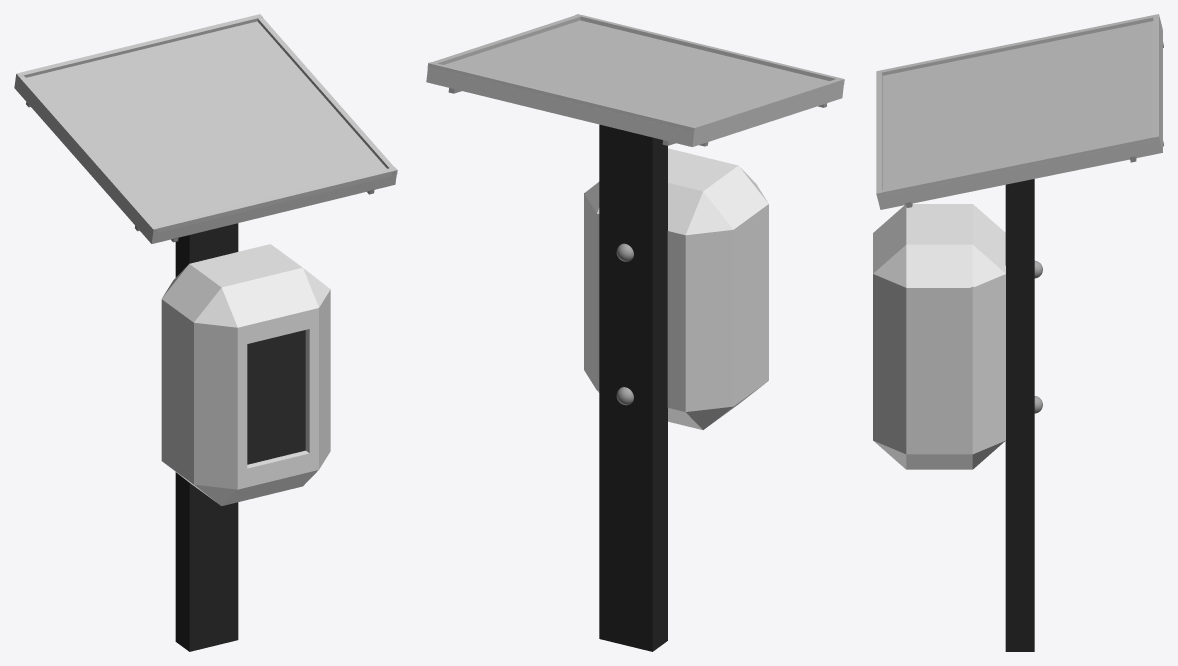
The model's file is Sensor-Solo.fbx.
3 views of the same model, side by side, from view 1: azimuth 30°, elevation 25°; view 2: azimuth 150°, elevation 25°; view 3: azimuth 270°, elevation 25° (orthographic). The views are drawn at different scales.
Parts seen in each view (by area): view 1: Solar_Panel, pCube2, pCube1; view 2: pCube1, Solar_Panel, pCube2; view 3: Solar_Panel, pCube2, pCube1.
Part boxes in pixels (<box>): Solar_Panel: <box>14,14,397,243</box>; pCube2: <box>161,244,330,505</box>; pCube1: <box>175,223,238,651</box>; pCube1: <box>599,124,667,651</box>; Solar_Panel: <box>426,14,844,146</box>; pCube2: <box>584,148,768,429</box>; Solar_Panel: <box>876,14,1162,209</box>; pCube2: <box>873,204,1005,469</box>; pCube1: <box>1005,179,1034,651</box>.
Bounding box in the file's own units: 50.08 × 107 × 50.24.
